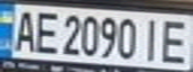0: (115, 15, 142, 61), (78, 11, 100, 57)
2: (57, 10, 81, 57)
9: (96, 13, 121, 60)
A: (9, 7, 39, 53)
E: (157, 16, 193, 64), (30, 8, 60, 55)
I: (139, 16, 166, 63)
